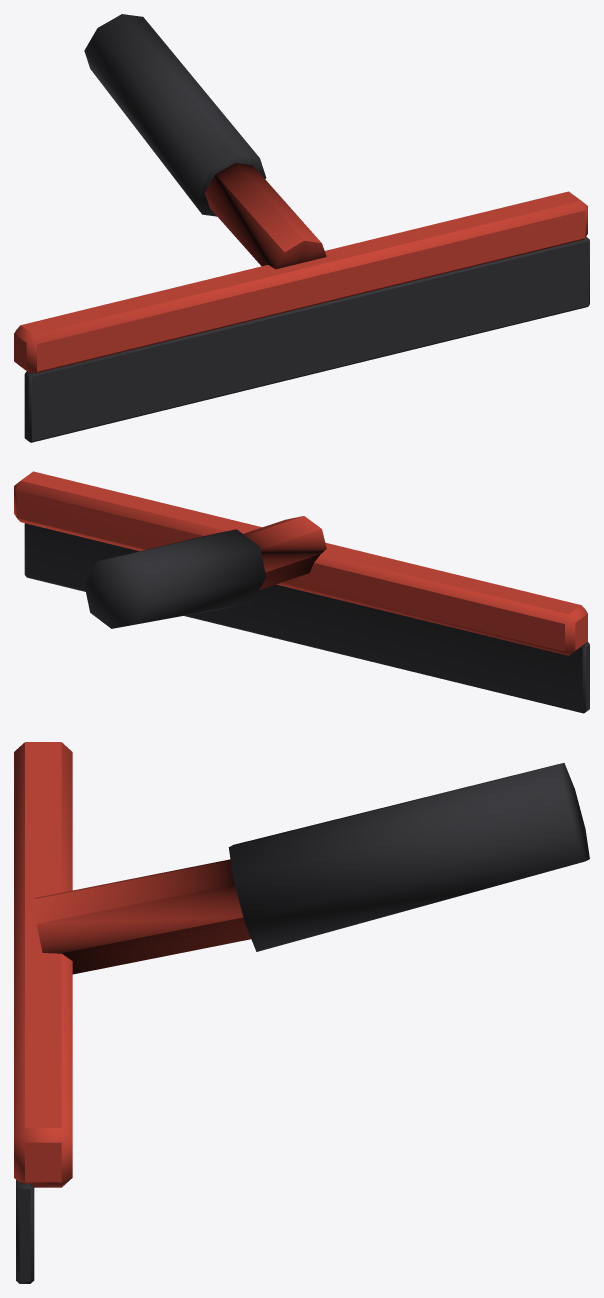
The model's file is squeegee.glb.
3 views of the same model, one above another, from view 1: azimuth 30°, elevation 25°; view 2: azimuth 150°, elevation 25°; view 3: azimuth 270°, elevation 25° (orthographic). The views are drawn at different scales.
Parts seen in each view (by area): view 1: blade, head, handle, neck; view 2: head, blade, handle, neck; view 3: handle, head, neck, blade.
Part boxes in pixels (x1=…): blade: x1=24, y1=237, x2=589, y2=442; head: x1=14, y1=191, x2=587, y2=373; handle: x1=84, y1=14, x2=266, y2=216; neck: x1=205, y1=163, x2=326, y2=269; head: x1=14, y1=471, x2=587, y2=655; blade: x1=24, y1=523, x2=589, y2=713; handle: x1=84, y1=529, x2=266, y2=628; neck: x1=243, y1=516, x2=326, y2=589; handle: x1=228, y1=763, x2=589, y2=951; head: x1=14, y1=742, x2=72, y2=1187; neck: x1=34, y1=859, x2=250, y2=974; blade: x1=16, y1=1180, x2=34, y2=1283.
Bounding box in the file's own units: 0.255 × 0.0971 × 0.1571.
